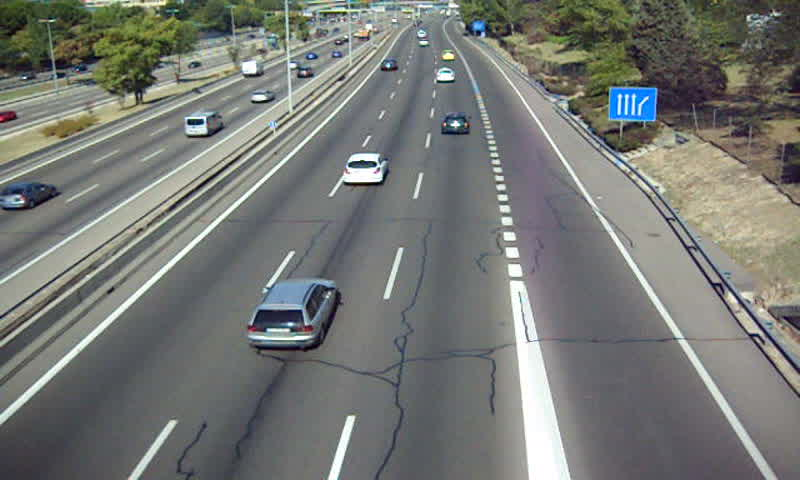car: (246, 278, 338, 353), (343, 153, 389, 183), (441, 112, 470, 134), (435, 68, 457, 84), (377, 60, 396, 73)
